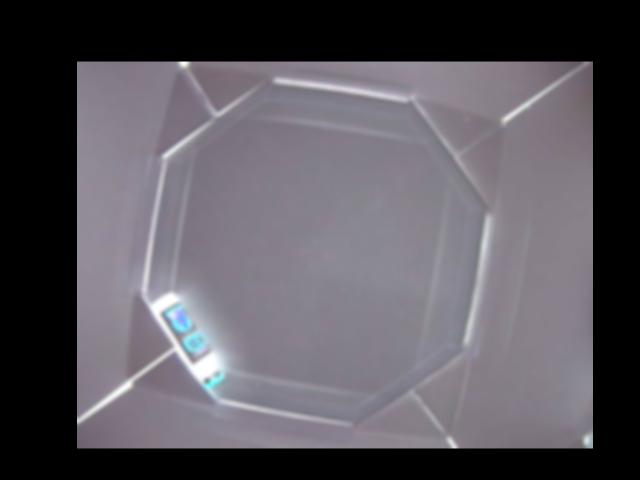Medicine: (149, 292, 224, 386)
